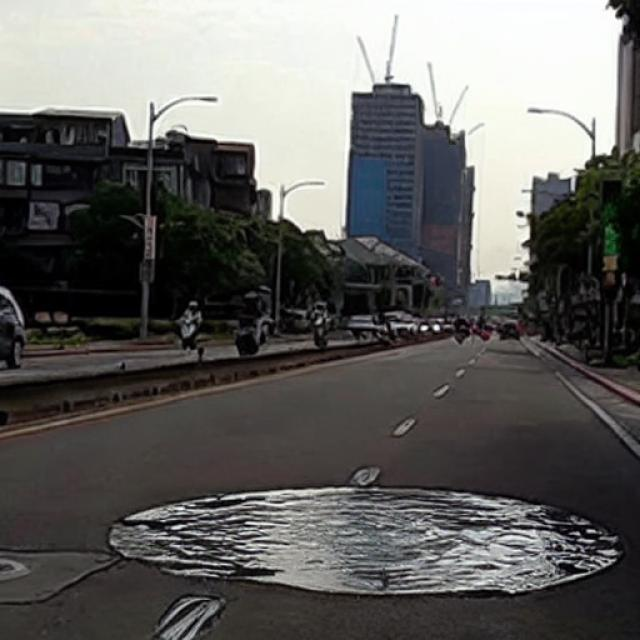puddle: (108, 488, 625, 598)
